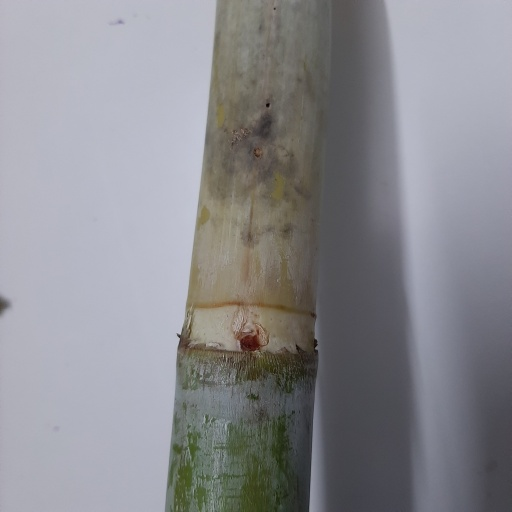Damage_Bud: (238, 332, 262, 354)
